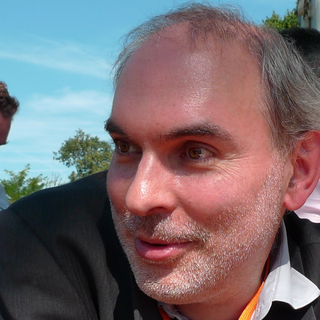eye: (172, 139, 224, 164), (112, 134, 147, 159)
